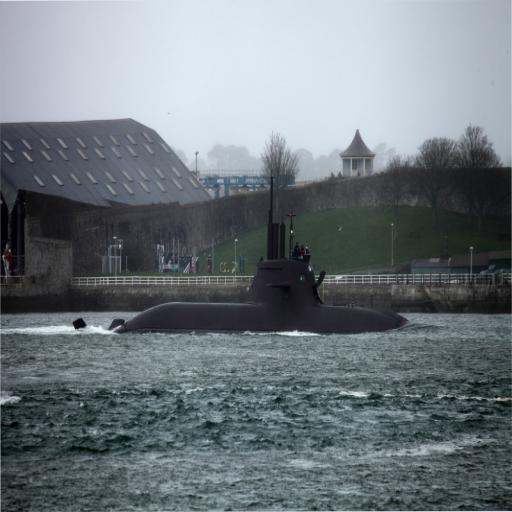submarine: (74, 170, 411, 332)
